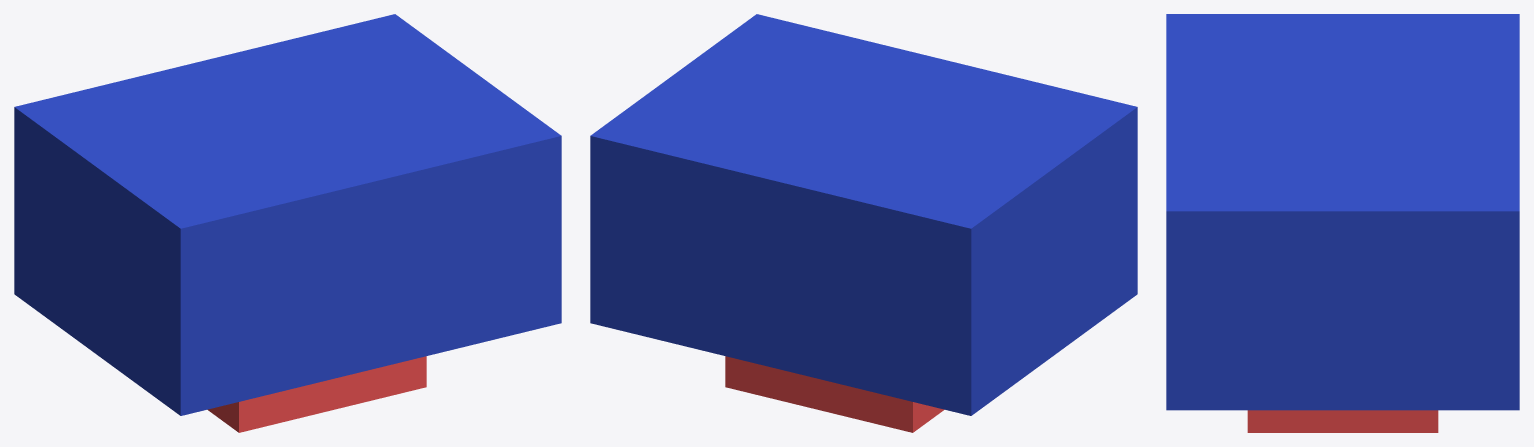
File: TesterPersoCubeMoche.FBX
3 renders of one model, left to right at view 1: azimuth 30°, elevation 25°; view 2: azimuth 150°, elevation 25°; view 3: azimuth 270°, elevation 25°, orthographic. The views are drawn at different scales.
Visible parts, largest first — view 1: Box001; view 2: Box001; view 3: Box001.
Boxes of the visible parts, x1,y1,x2,y2 form: Box001: (14,14,561,432); Box001: (590,14,1137,432); Box001: (1166,14,1519,432).
Size of the model in its own units: 59.94 by 38.47 by 45.38.
